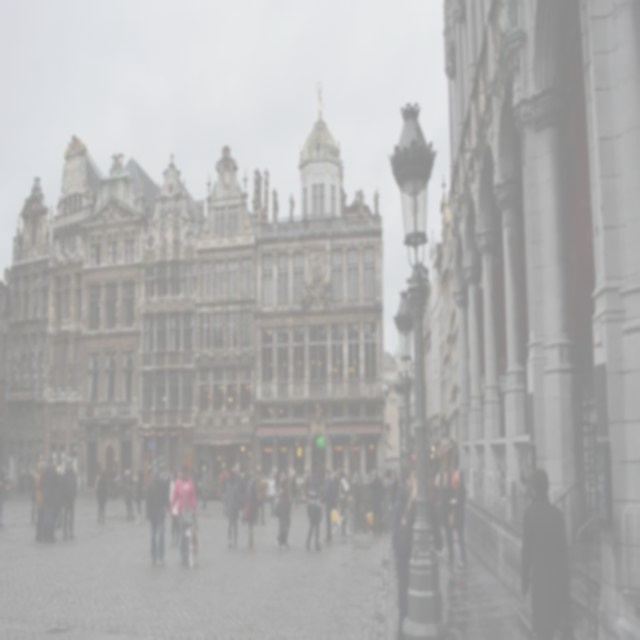pessoa: (518, 466, 575, 638), (390, 461, 420, 638), (167, 462, 197, 566), (145, 458, 172, 570), (449, 468, 469, 571), (38, 454, 58, 544), (440, 467, 457, 565), (60, 454, 78, 540), (242, 472, 260, 554), (304, 470, 322, 552), (224, 474, 242, 550), (368, 467, 386, 537), (404, 472, 422, 542), (276, 466, 292, 542), (337, 469, 352, 536), (34, 460, 46, 543), (168, 470, 180, 548), (272, 486, 286, 550), (276, 489, 290, 551), (95, 466, 109, 526), (52, 462, 64, 530), (122, 468, 136, 524), (254, 468, 267, 527), (323, 468, 333, 544), (27, 462, 38, 526), (230, 466, 252, 498), (132, 468, 144, 526), (424, 468, 436, 520), (188, 461, 200, 511), (0, 462, 8, 530), (388, 469, 400, 512), (160, 468, 170, 514), (266, 472, 276, 517), (288, 465, 298, 508), (200, 464, 209, 509), (218, 462, 230, 494), (330, 462, 346, 486), (218, 486, 230, 518), (372, 184, 381, 223), (444, 462, 456, 489), (286, 190, 296, 222), (302, 470, 312, 500), (271, 462, 280, 489), (358, 190, 364, 218), (93, 469, 101, 487), (36, 452, 45, 463)
